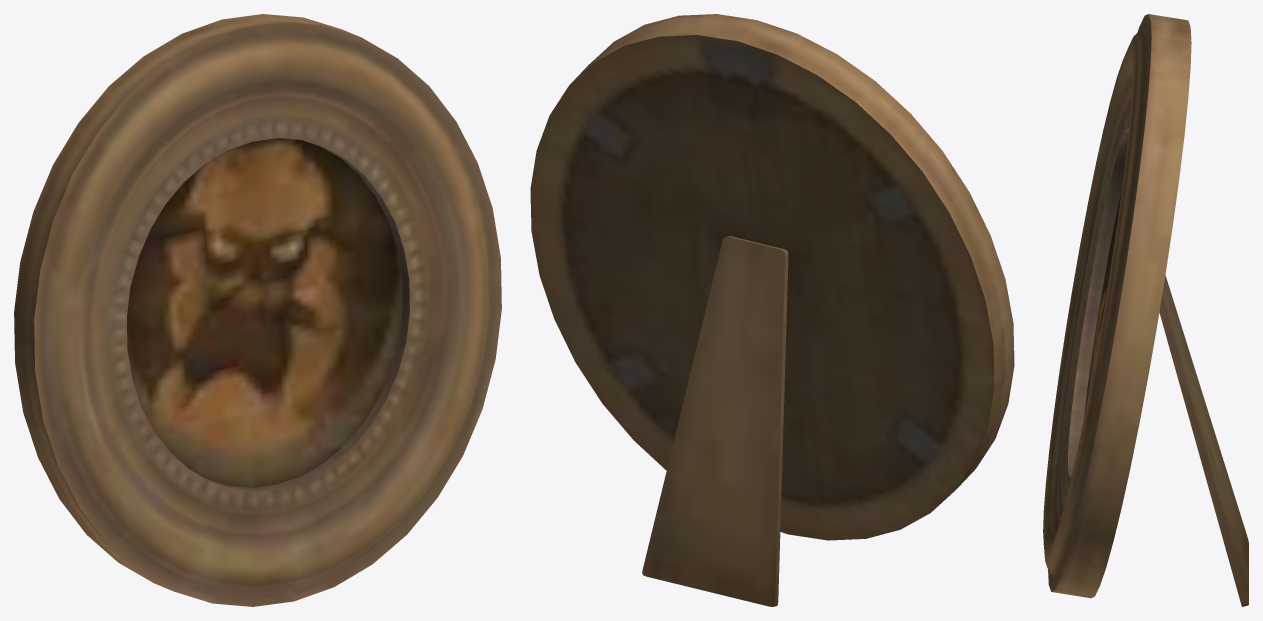
File: SM_frame_02_199b7f.glb
3 views of the same model, side by side, from view 1: azimuth 30°, elevation 25°; view 2: azimuth 150°, elevation 25°; view 3: azimuth 270°, elevation 25° (orthographic).
Size of the model in its own units: 0.1254 by 0.1395 by 0.0483.
Materials: 1 (1 with a texture image).
